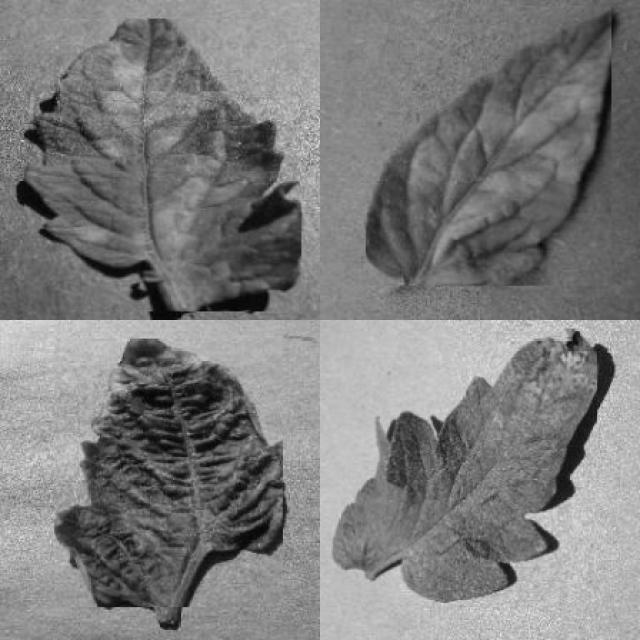Leaf Mold: (25, 18, 302, 312), (365, 7, 612, 286)
Septoria: (332, 328, 597, 603)
Yellow Leaf Curl Virus: (55, 339, 282, 607)
